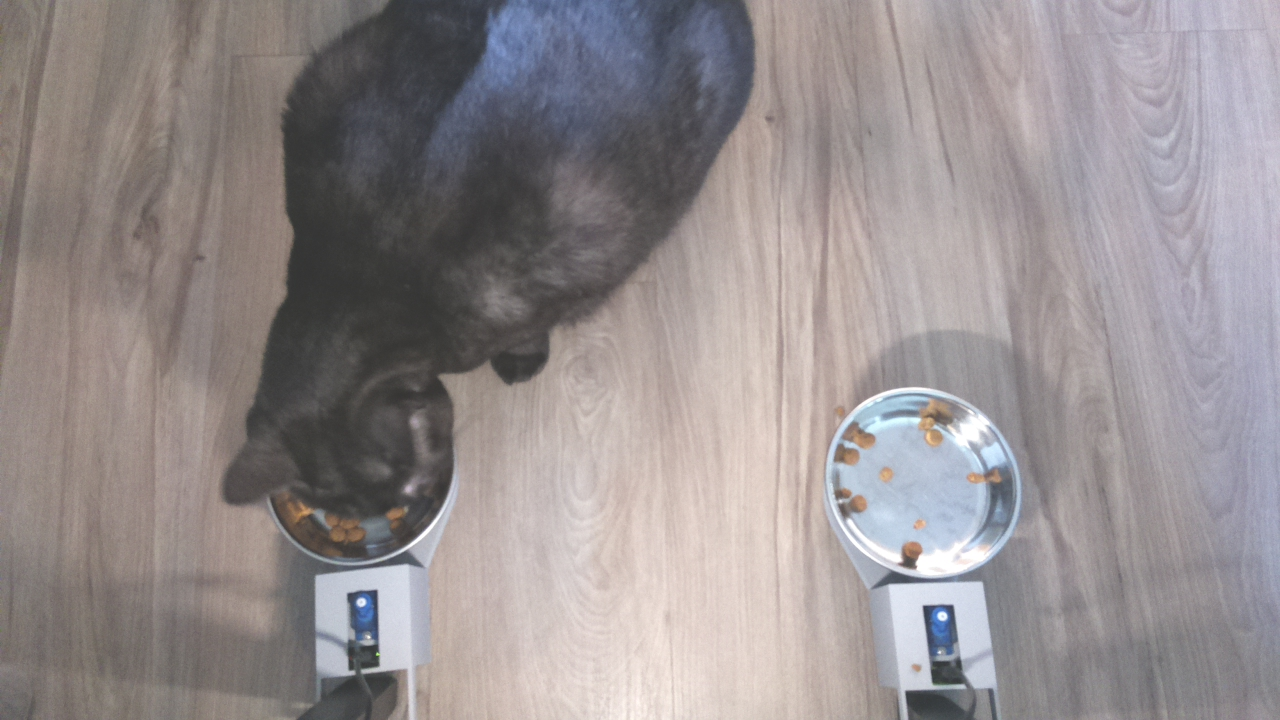open_bowl: (822, 383, 1025, 592)
saki_eating: (209, 287, 482, 580)
